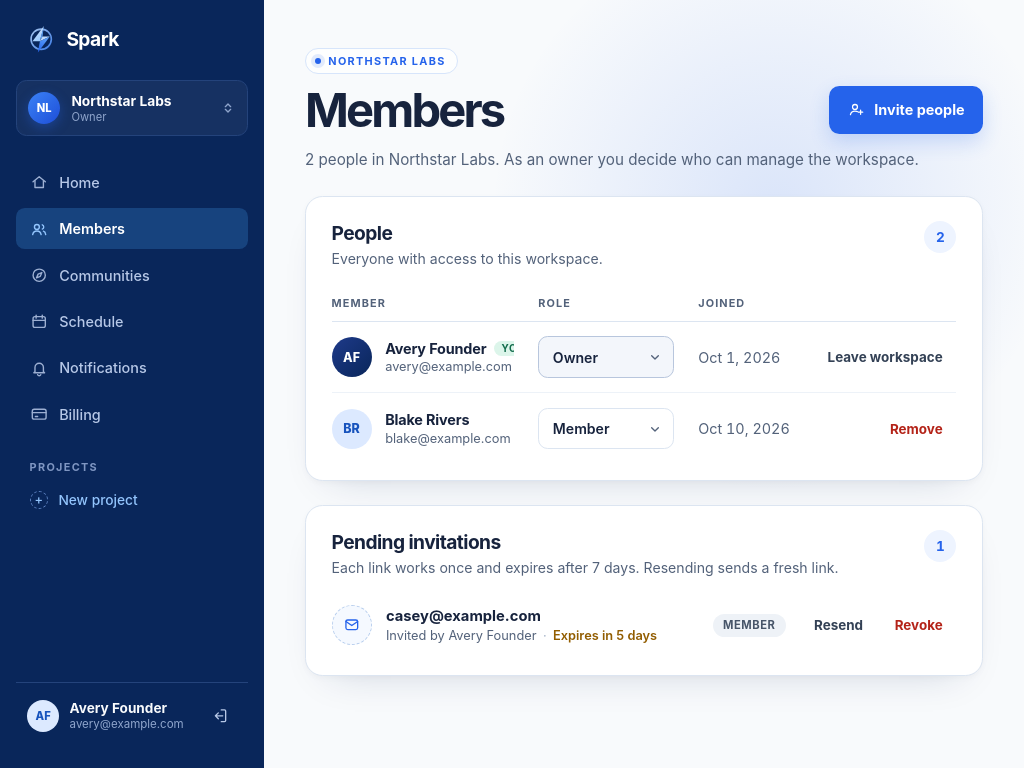
Test: members page › removes a member after confirmation
The image size is (1024, 768).
Click the button with aria-label "Remove Blake Rivers" at coordinates (916, 429), box [876, 410, 956, 447]
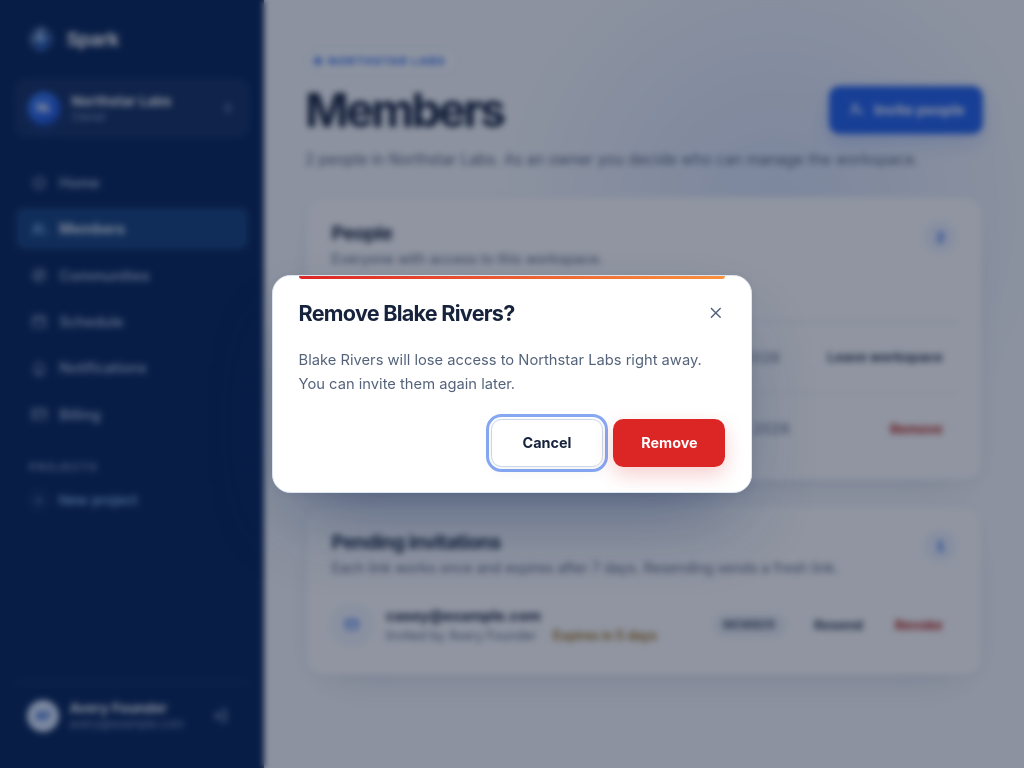
Click the button "Remove" at coordinates (669, 443), box [613, 419, 725, 467]
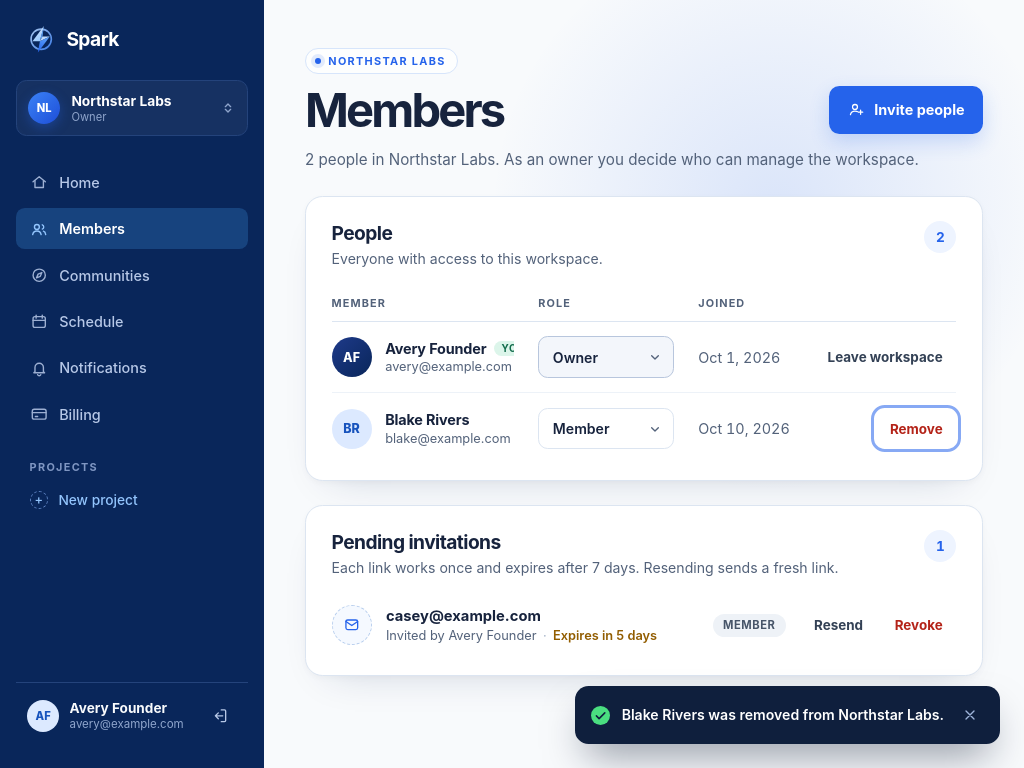
Check: the dialog is gone
